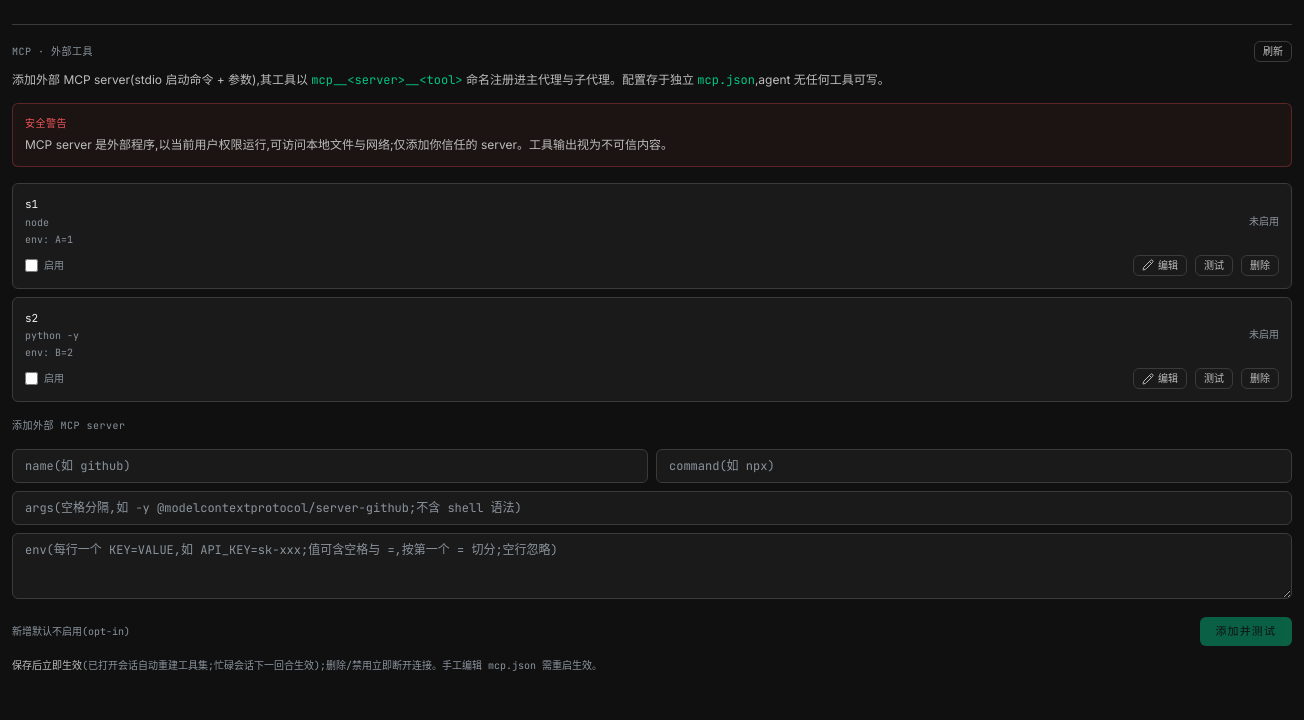
Scenario: McpPanel 编辑已有 server › 编辑中切换目标:先复位再回填,无旧值残留
Click the button with test id "edit-s1" at (1160, 265), box [1133,254,1187,276]
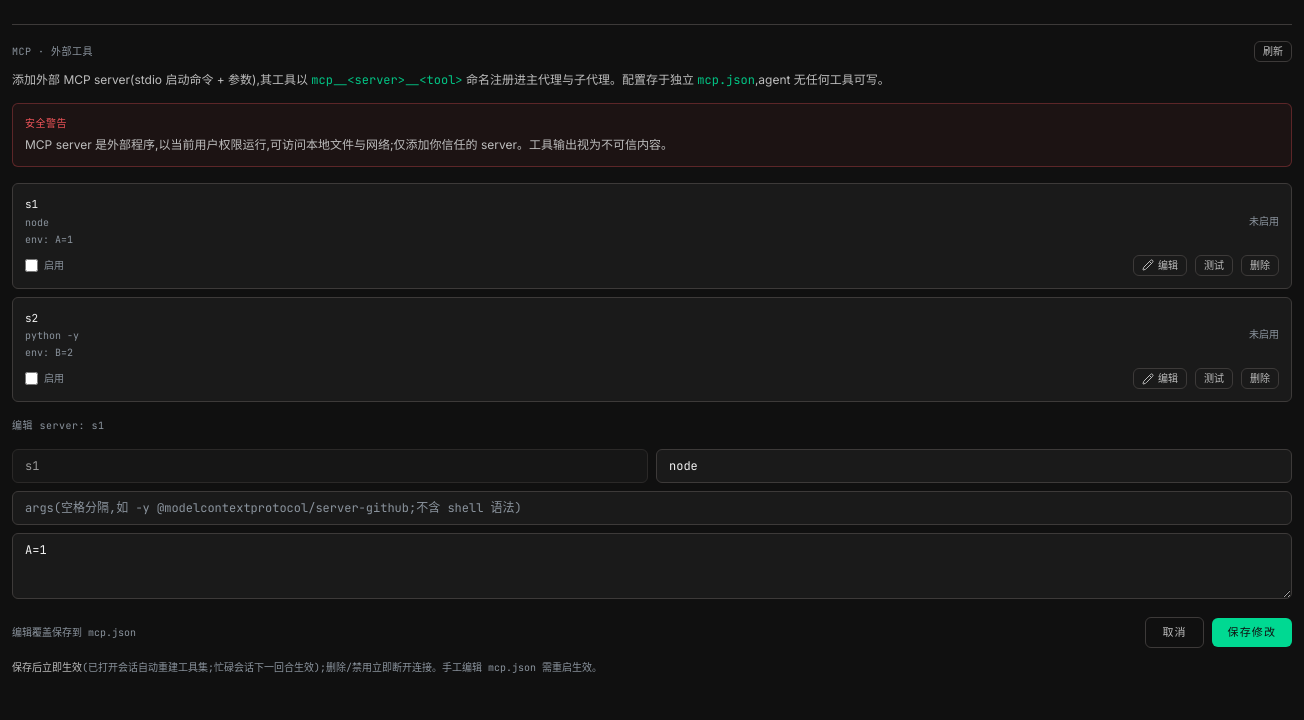
Click the button with test id "edit-s2" at (1160, 378), box [1133,368,1187,389]
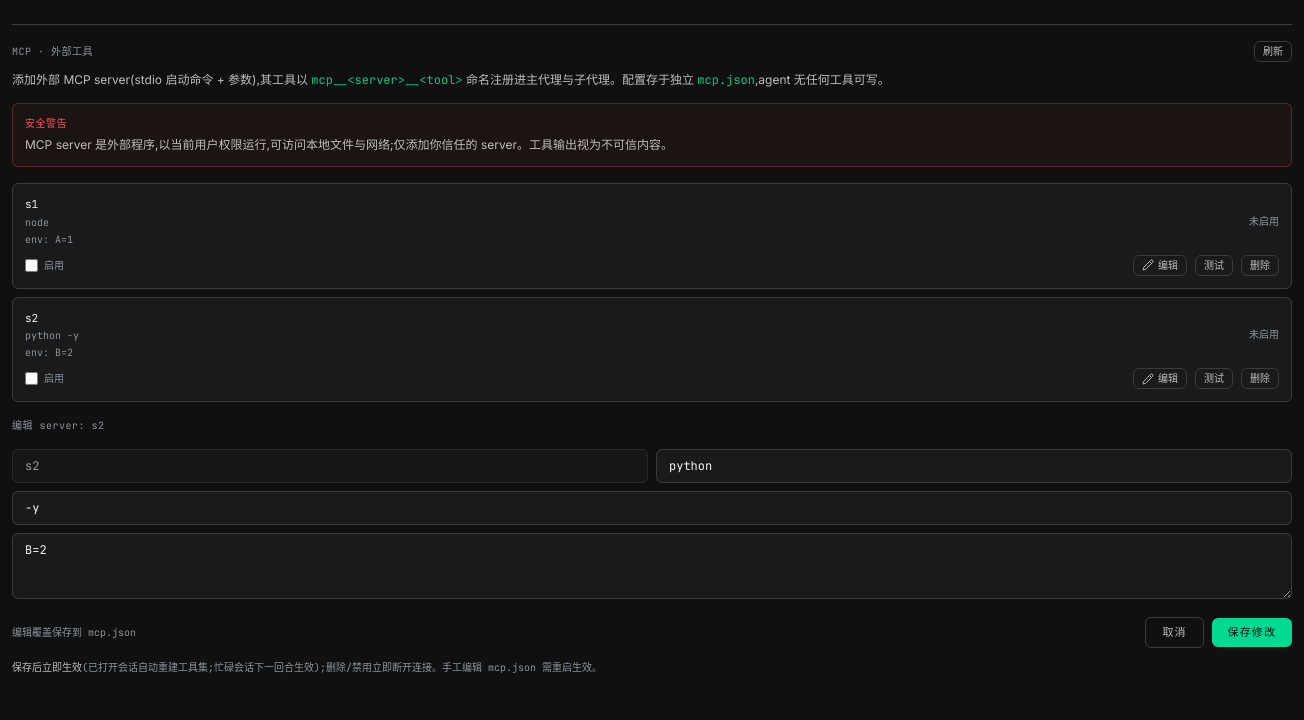
Expected: the 2nd field holds "python", [656,449,1292,483]
Expected: the 3rd field holds "-y", [12,491,1292,525]
Expected: the text box holds "B=2", [12,533,1292,599]
